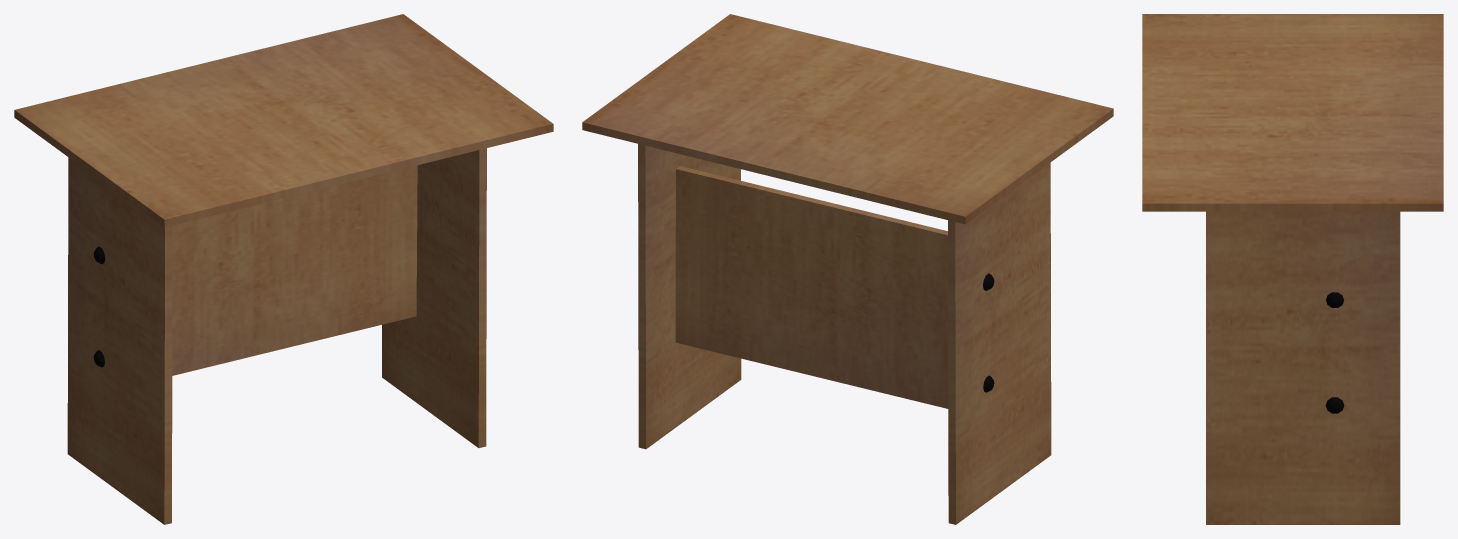
Rendered from стол.fbx.
3 views of the same model, side by side, from view 1: azimuth 30°, elevation 25°; view 2: azimuth 150°, elevation 25°; view 3: azimuth 270°, elevation 25° (orthographic).
Visible parts, largest first — view 1: Плоскость.003, Плоскость.002, Плоскость, Плоскость.001; view 2: Плоскость.003, Плоскость.002, Плоскость, Плоскость.001; view 3: Плоскость.001, Плоскость.003.
Boxes of the visible parts, x1=… form: Плоскость.003: x1=14, y1=14, x2=553, y2=227; Плоскость.002: x1=172, y1=165, x2=417, y2=375; Плоскость: x1=67, y1=157, x2=172, y2=524; Плоскость.001: x1=382, y1=148, x2=486, y2=447; Плоскость.003: x1=582, y1=14, x2=1113, y2=224; Плоскость.002: x1=675, y1=166, x2=948, y2=408; Плоскость: x1=948, y1=162, x2=1051, y2=524; Плоскость.001: x1=638, y1=144, x2=741, y2=449; Плоскость.001: x1=1206, y1=211, x2=1400, y2=524; Плоскость.003: x1=1142, y1=14, x2=1443, y2=211.
Bounding box in the file's own units: 4.46 × 3.69 × 2.98.
Materials: 8 (4 with a texture image).
